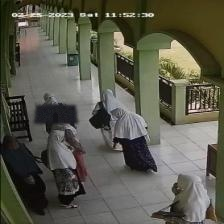Cadar_Niqab: (33, 95, 78, 123)
